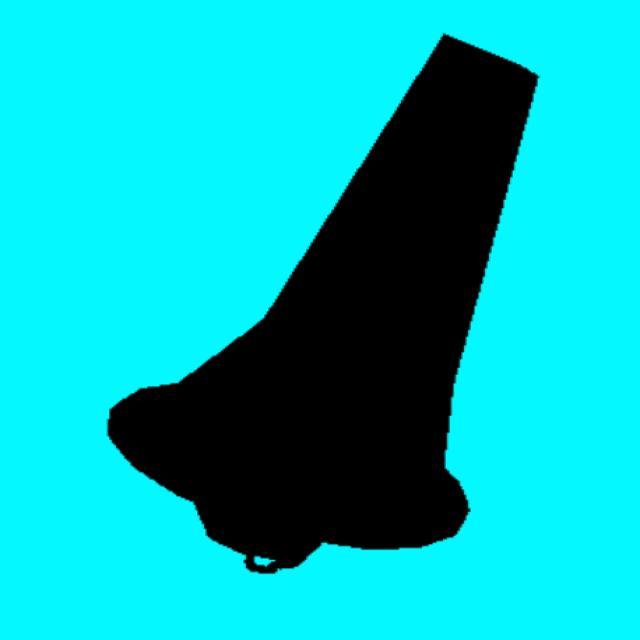BlackBuoy: (109, 35, 536, 572)
